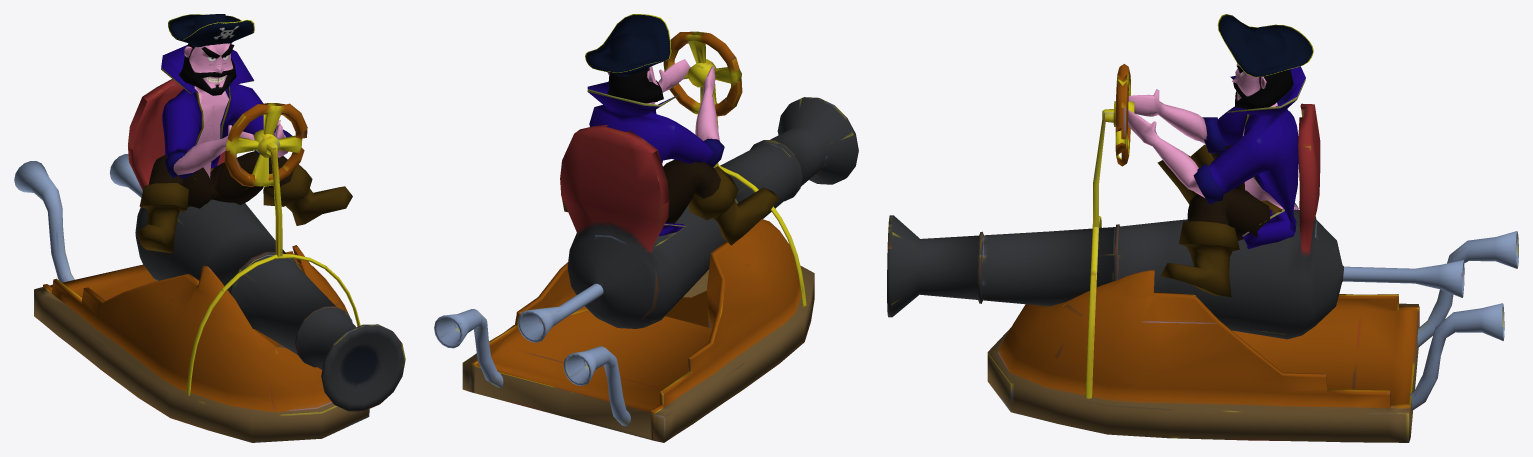
Rendered from VacilePirata_000546.obj.
The picture shows the model from 3 angles, left to right: view 1: azimuth 30°, elevation 25°; view 2: azimuth 150°, elevation 25°; view 3: azimuth 270°, elevation 25°; orthographic projection. The views are drawn at different scales.
Visible parts, largest first — view 1: carro_pirata_carro_pirata.001, Pirata_PirataH; view 2: carro_pirata_carro_pirata.001, Pirata_PirataH; view 3: carro_pirata_carro_pirata.001, Pirata_PirataH.
Part boxes in pixels (box(x1,y1,x2,y2)): carro_pirata_carro_pirata.001: box(14, 79, 405, 442); Pirata_PirataH: box(137, 14, 352, 253); carro_pirata_carro_pirata.001: box(434, 31, 858, 442); Pirata_PirataH: box(561, 14, 778, 245); carro_pirata_carro_pirata.001: box(887, 64, 1518, 442); Pirata_PirataH: box(1128, 14, 1313, 297).
Bounding box in the file's own units: 5.13 × 7.76 × 12.1.
